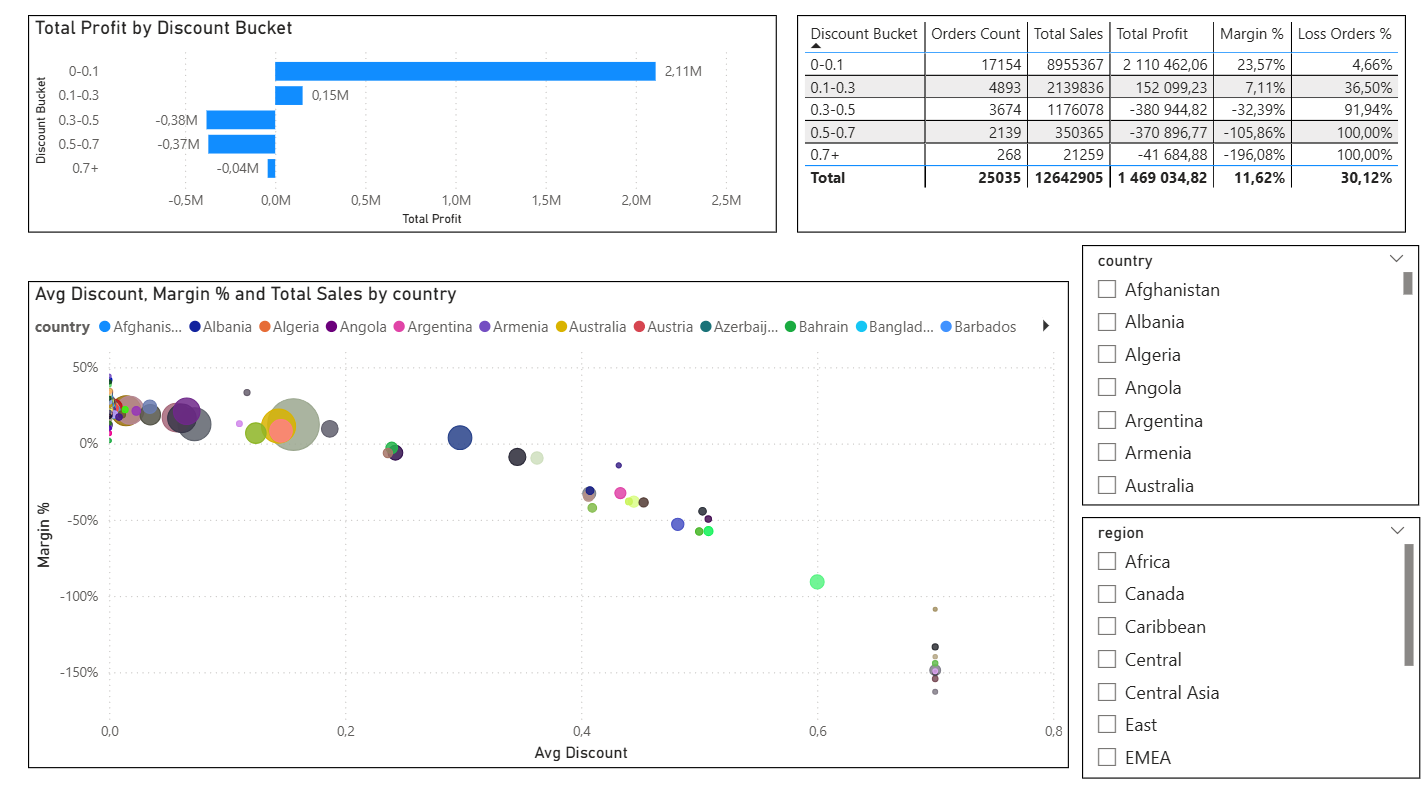

The dashboard page shown, as its layout file describes it:
{"tool":"powerbi","page":{"name":"Discount Analysis","canvas":[1280,720],"ordinal":1},"visuals":[{"type":"barChart","fields":{"Category":["orders_view.Discount Bucket"],"Y":["orders_view.Total Profit"]},"box":[37.9,18.5,664.3,192.6],"z":0},{"type":"tableEx","fields":{"Values":["orders_view.Discount Bucket","orders_view.Orders Count","orders_view.Total Sales","orders_view.Total Profit","orders_view.Margin %","orders_view.Loss Orders %"]},"box":[719.8,18.5,539.8,192.6],"z":1000},{"type":"scatterChart","fields":{"Series":["orders_view.country"],"X":["orders_view.Avg Discount"],"Y":["orders_view.Margin %"],"Size":["orders_view.Total Sales"]},"box":[37.9,254.8,923,431.9],"z":2000},{"type":"slicer","fields":{"Values":["orders_view.country"]},"box":[972.6,222.7,298.6,231.5],"z":3000},{"type":"slicer","fields":{"Values":["orders_view.region"]},"box":[972.6,464,299.6,232.5],"z":4000}]}

Visuals, with their boxes in screenshot pixels (x1, y1, x2, y2), scaled from the page's 1280x720 canvas onto the 1428x797 screenshot:
barChart - orders_view.Discount Bucket x orders_view.Total Profit: (left=42, top=20, right=783, bottom=234)
tableEx - orders_view.Discount Bucket x orders_view.Orders Count: (left=803, top=20, right=1405, bottom=234)
scatterChart - orders_view.country x orders_view.Avg Discount: (left=42, top=282, right=1072, bottom=760)
slicer - orders_view.country: (left=1085, top=247, right=1418, bottom=503)
slicer - orders_view.region: (left=1085, top=514, right=1419, bottom=771)
